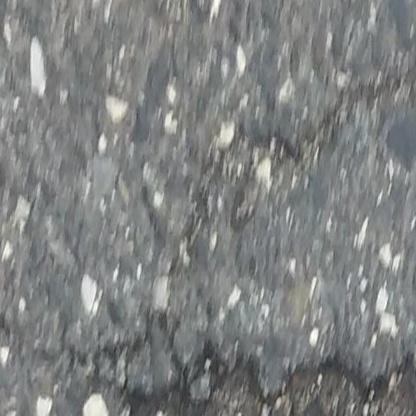Cracks: (115, 345, 416, 416)
